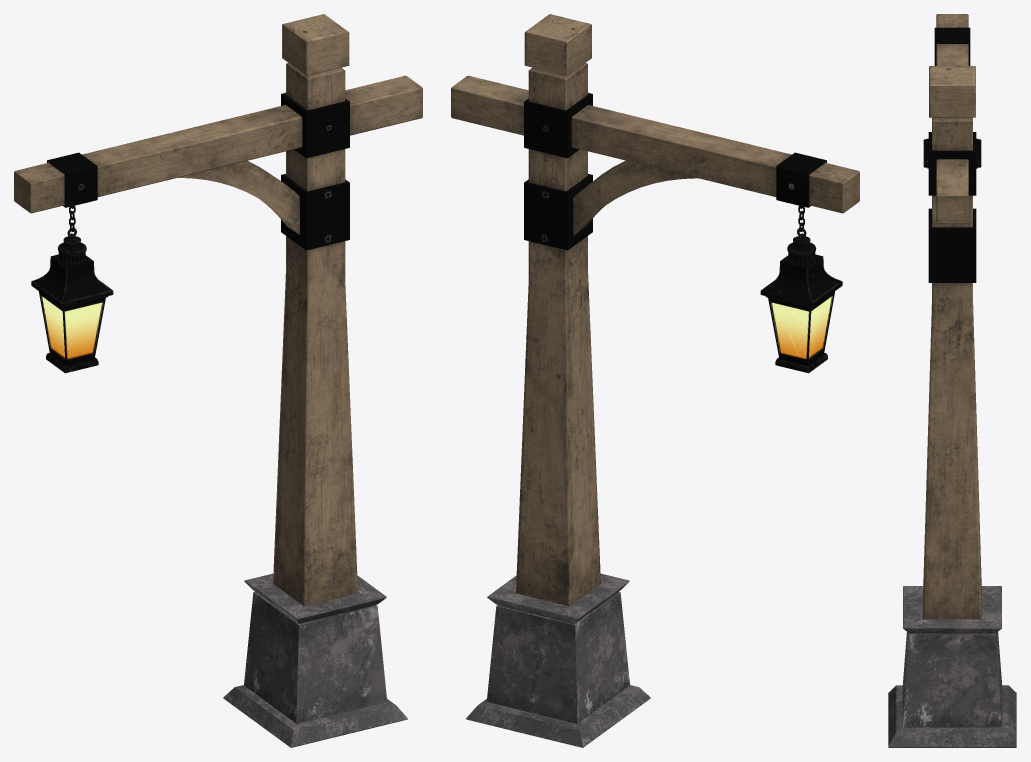
Rendered from Lantern.gltf.
3 renders of one model, left to right at view 1: azimuth 30°, elevation 25°; view 2: azimuth 150°, elevation 25°; view 3: azimuth 270°, elevation 25°, orthographic. The views are drawn at different scales.
Parts seen in each view (by area): view 1: LanternPole_Body, LanternPole_Lantern; view 2: LanternPole_Body, LanternPole_Lantern; view 3: LanternPole_Body, LanternPole_Lantern.
Boxes of the visible parts, bbox=[...] form: LanternPole_Body: bbox=[14, 14, 422, 747]; LanternPole_Lantern: bbox=[31, 227, 113, 373]; LanternPole_Body: bbox=[451, 14, 859, 747]; LanternPole_Lantern: bbox=[760, 227, 842, 373]; LanternPole_Body: bbox=[888, 14, 1016, 747]; LanternPole_Lantern: bbox=[923, 138, 981, 168].
Size of the model in its own units: 0.9295 by 1.54 by 0.2779.
1 material, 1 textured.
